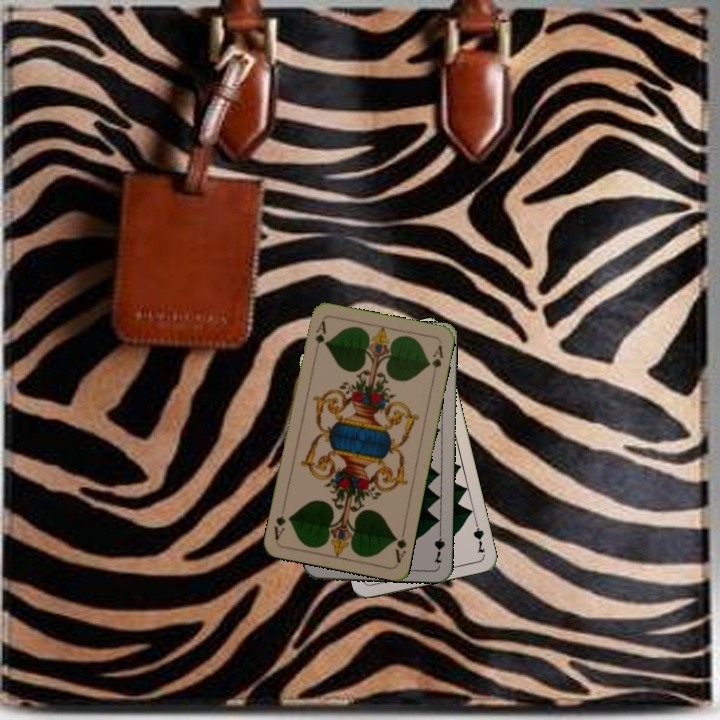G7: (469, 515, 488, 556), (430, 526, 447, 566)
GA: (390, 525, 409, 566), (311, 317, 328, 356)
